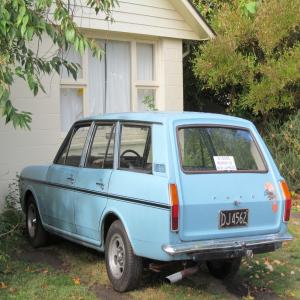Vehicle-registration-plate: (219, 212, 250, 229)
